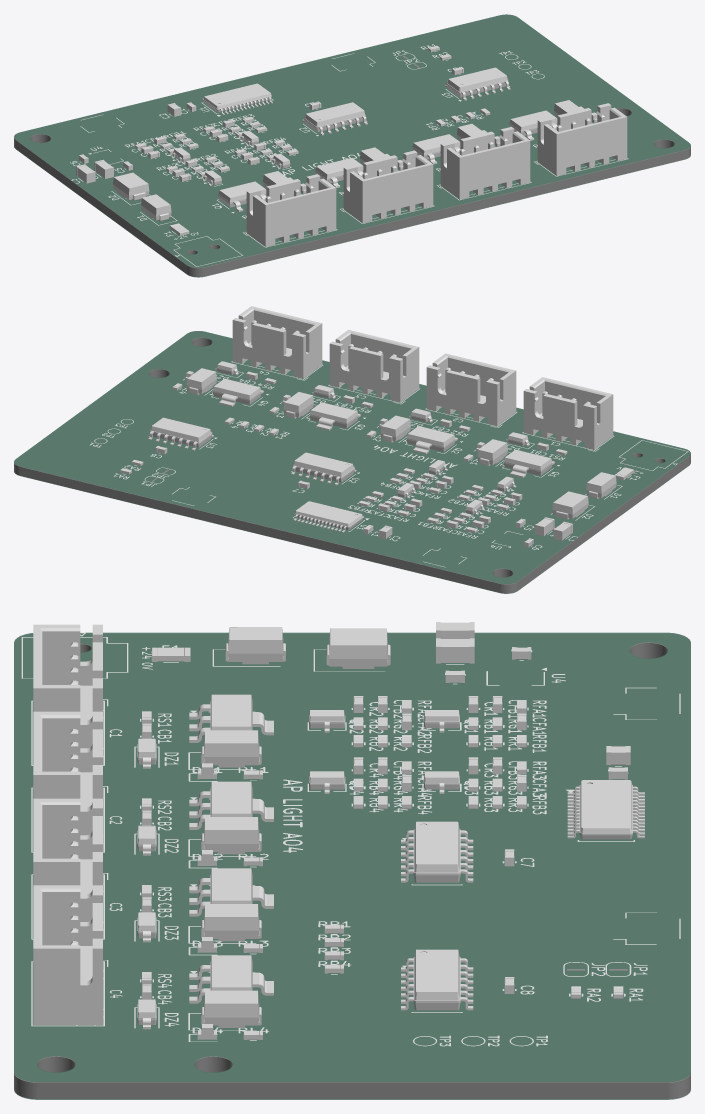
3 views of the same model, one above another, from view 1: azimuth 30°, elevation 25°; view 2: azimuth 150°, elevation 25°; view 3: azimuth 270°, elevation 25° (orthographic). The views are drawn at different scales.
Visible parts, largest first — view 1: =>[0:1:1:21], =>[0:1:1:19], J4, J7, J5, J6, =>[0:1:1:17], U1, U3, U2, D2, Q1 (+5 smaller); view 2: =>[0:1:1:19], =>[0:1:1:21], J5, J4, J6, J7, =>[0:1:1:17], U1, U3, U2, Q3, Q2 (+9 smaller); view 3: =>[0:1:1:19], =>[0:1:1:21], =>[0:1:1:17], J7, J4, J5, J6, U1, U2, U3, D2, Q1 (+9 smaller).
Boxes of the visible parts, box(x1,y1,x2,y2) form: =>[0:1:1:21]: box(14, 15, 690, 277); =>[0:1:1:19]: box(14, 14, 690, 267); J4: box(246, 174, 336, 246); J7: box(537, 103, 627, 175); J5: box(343, 150, 433, 223); J6: box(440, 127, 530, 199); =>[0:1:1:17]: box(70, 44, 628, 266); U1: box(202, 83, 272, 114); U3: box(445, 67, 510, 100); U2: box(302, 102, 367, 135); D2: box(113, 172, 149, 200); Q1: box(218, 181, 266, 211); =>[0:1:1:19]: box(14, 331, 690, 584); =>[0:1:1:21]: box(14, 331, 690, 593); J5: box(426, 353, 516, 425); J4: box(523, 377, 613, 449); J6: box(329, 329, 419, 402); J7: box(232, 306, 322, 378); =>[0:1:1:17]: box(90, 361, 688, 567); U1: box(293, 501, 364, 532); U3: box(148, 417, 213, 450); U2: box(291, 452, 356, 485); Q3: box(309, 402, 360, 430); Q2: box(406, 426, 457, 454); =>[0:1:1:19]: box(14, 632, 690, 1082); =>[0:1:1:21]: box(14, 634, 690, 1099); =>[0:1:1:17]: box(21, 632, 680, 1046); J7: box(33, 885, 102, 1025); J4: box(33, 624, 102, 748); J5: box(33, 711, 102, 835); J6: box(33, 798, 102, 921); U1: box(567, 780, 644, 839); U2: box(401, 821, 473, 882); U3: box(401, 949, 473, 1010); D2: box(326, 628, 390, 668); Q1: box(189, 694, 273, 742).
Bounding box in the file's own units: 0.088 × 0.0104 × 0.056.
